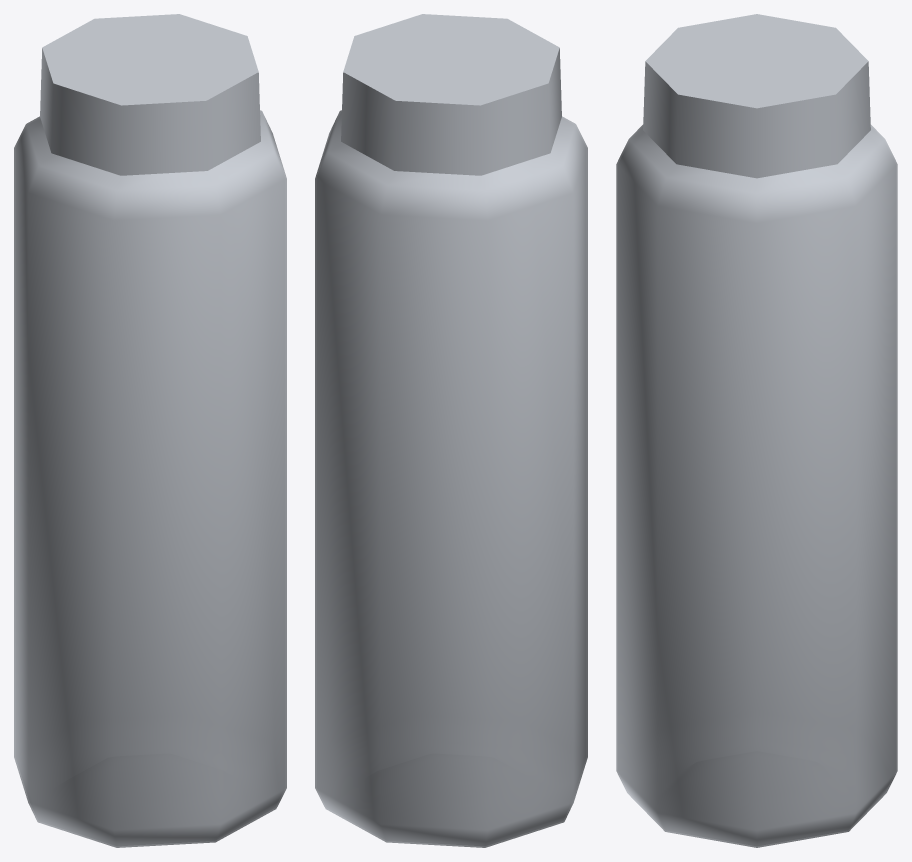
Rendered from bottle_plastic_bottle_large.glb.
3 renders of one model, left to right at view 1: azimuth 30°, elevation 25°; view 2: azimuth 150°, elevation 25°; view 3: azimuth 270°, elevation 25°, orthographic.
Parts seen in each view (by area): view 1: bottle_plastic_bottle_large, bottle_plastic_bottle_large_cap; view 2: bottle_plastic_bottle_large, bottle_plastic_bottle_large_cap; view 3: bottle_plastic_bottle_large, bottle_plastic_bottle_large_cap.
Boxes of the visible parts, x1,y1,x2,y2 form: bottle_plastic_bottle_large: (14, 110, 286, 847); bottle_plastic_bottle_large_cap: (40, 14, 260, 175); bottle_plastic_bottle_large: (315, 110, 587, 847); bottle_plastic_bottle_large_cap: (341, 14, 561, 175); bottle_plastic_bottle_large: (616, 124, 897, 847); bottle_plastic_bottle_large_cap: (643, 14, 870, 178).
Size of the model in its own units: 15.01 by 43.63 by 15.01.
2 materials, 2 textured.
